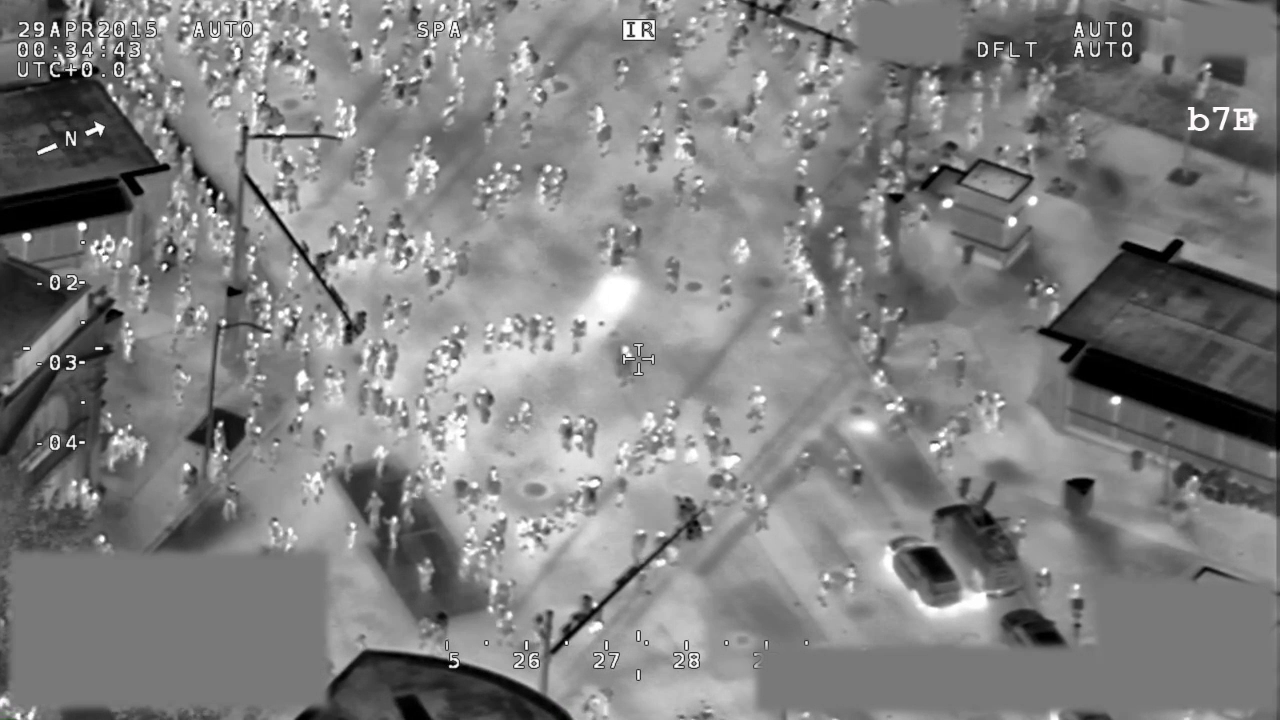vehicle: (926, 470, 1034, 603), (880, 527, 969, 617)
